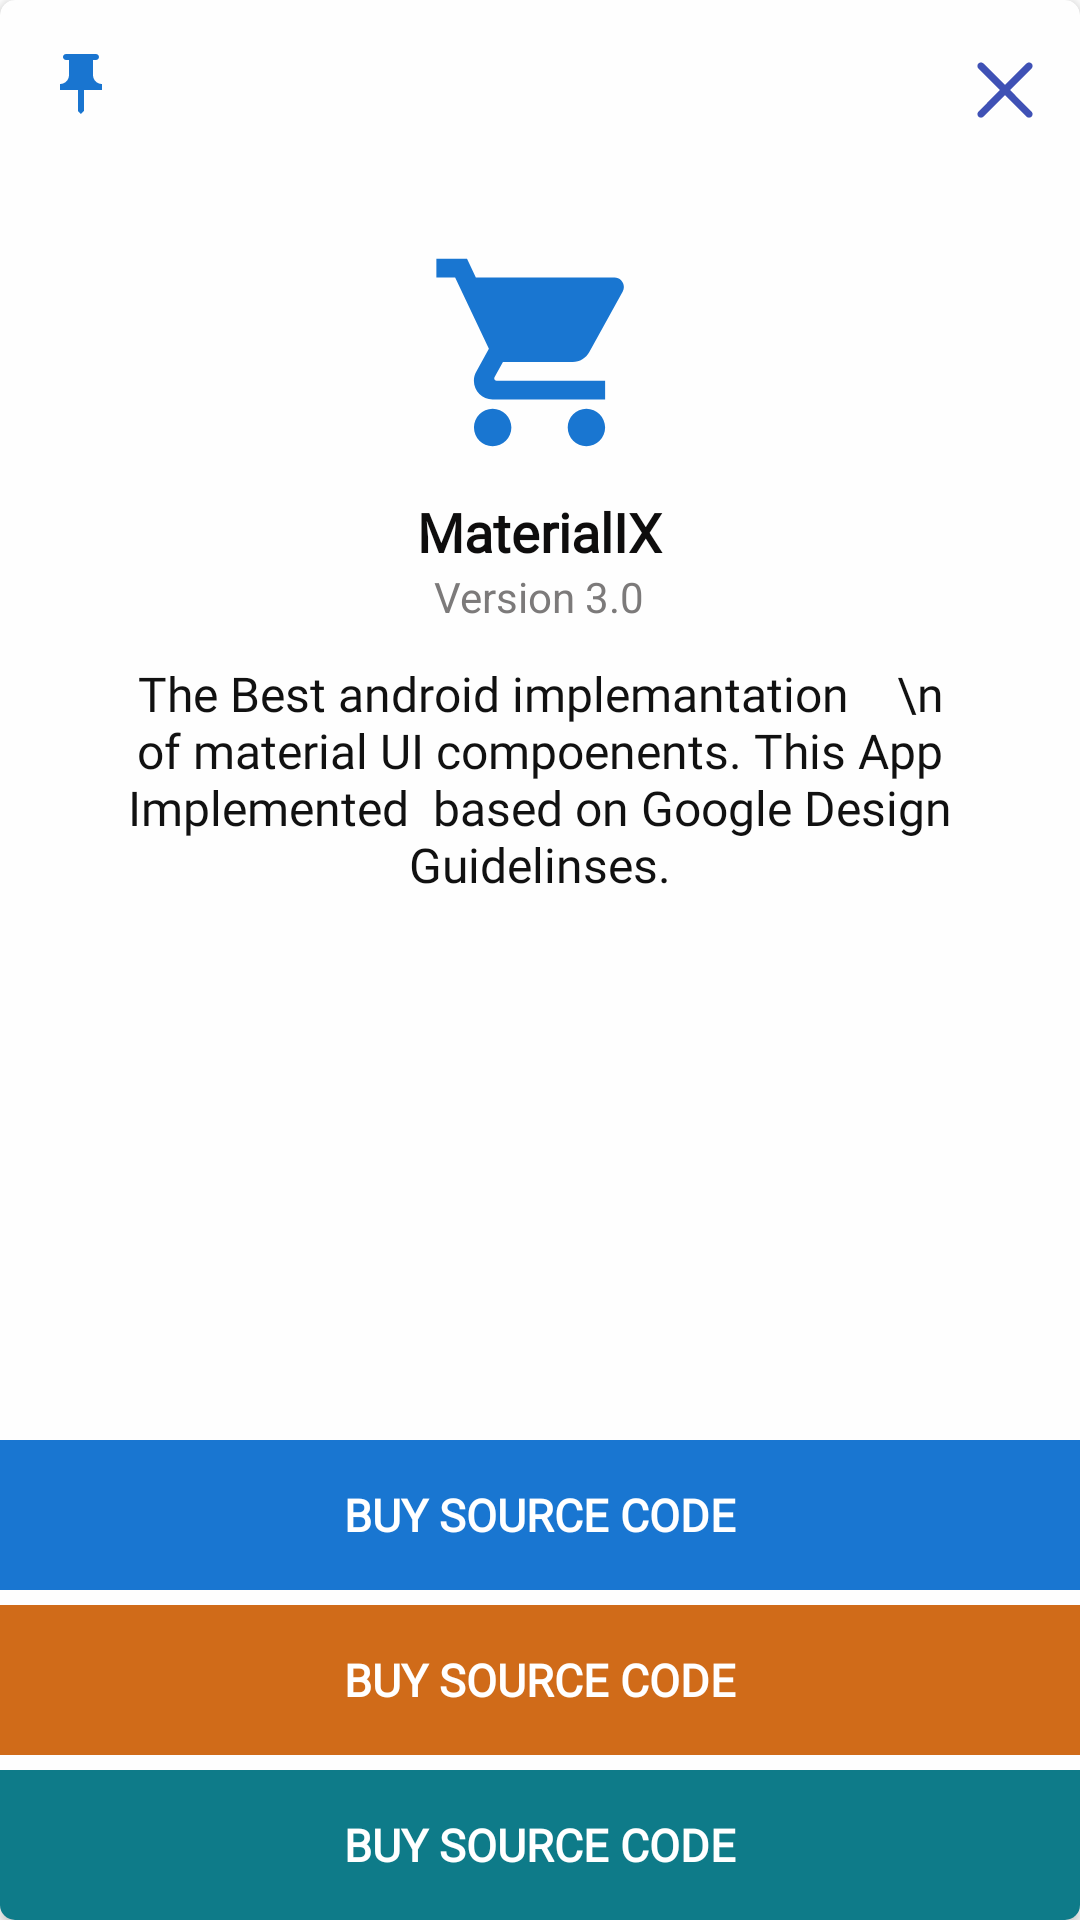

Screen size 1080px x 1920px. Icon name, then its box in pixels as (x1, y1, x2, y2):
cancel: (977, 62, 1033, 118)
local grocery store: (436, 258, 624, 447)
pin: (60, 54, 102, 114)
